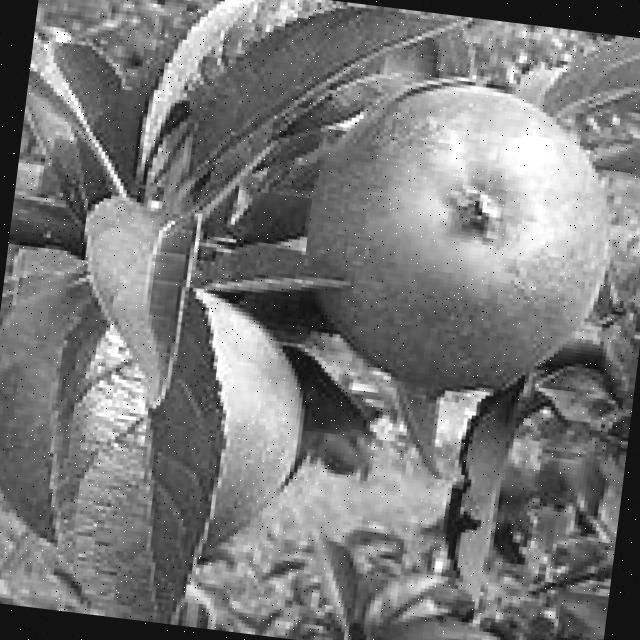apple: (288, 67, 630, 410)
